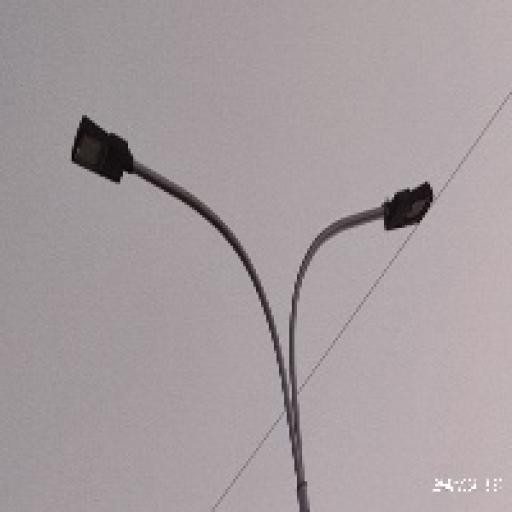Not Working: (56, 111, 149, 197), (371, 171, 442, 249)
